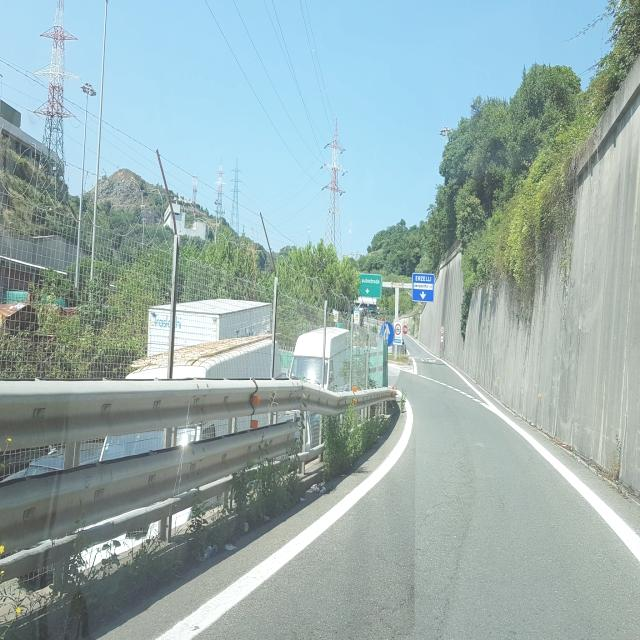car: (393, 320, 403, 339)
